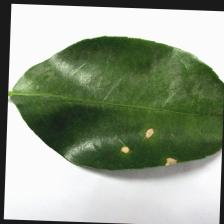canker: (114, 115, 182, 189)
